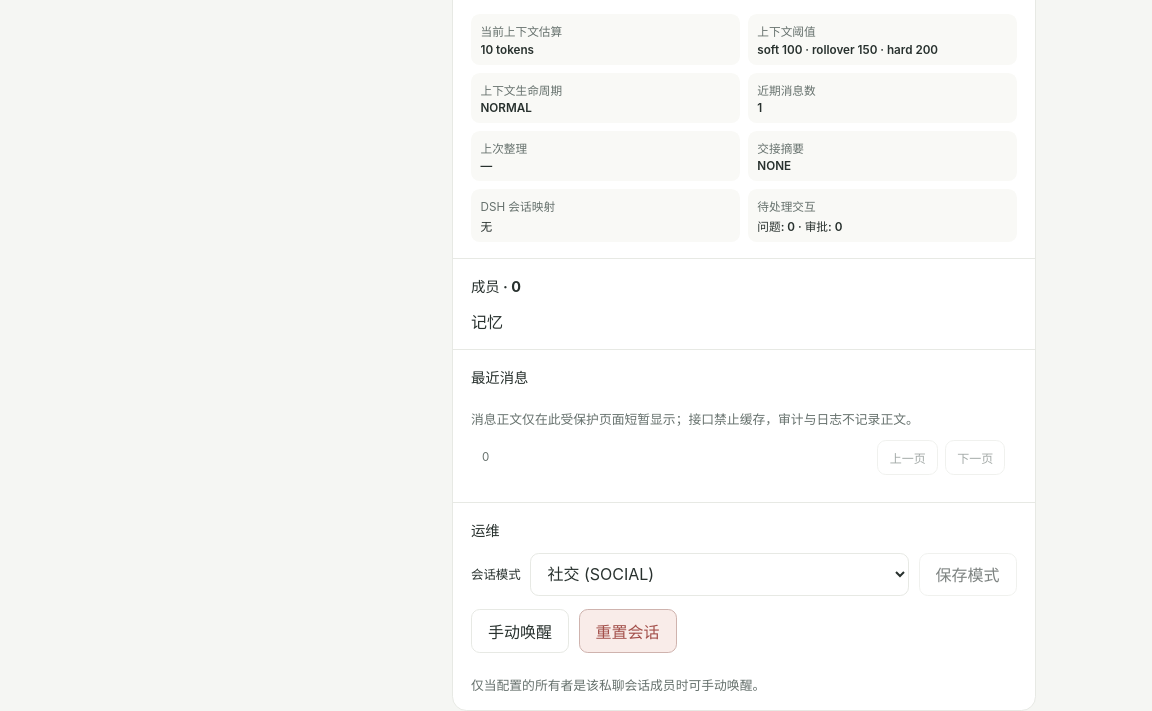
Scenario: conversation operations console › shows UNKNOWN no-resend warning and confirms reset with long-term preservation copy
(page scrolled)
Click the button "重置会话".
click(628, 631)  # box [578, 609, 676, 653]
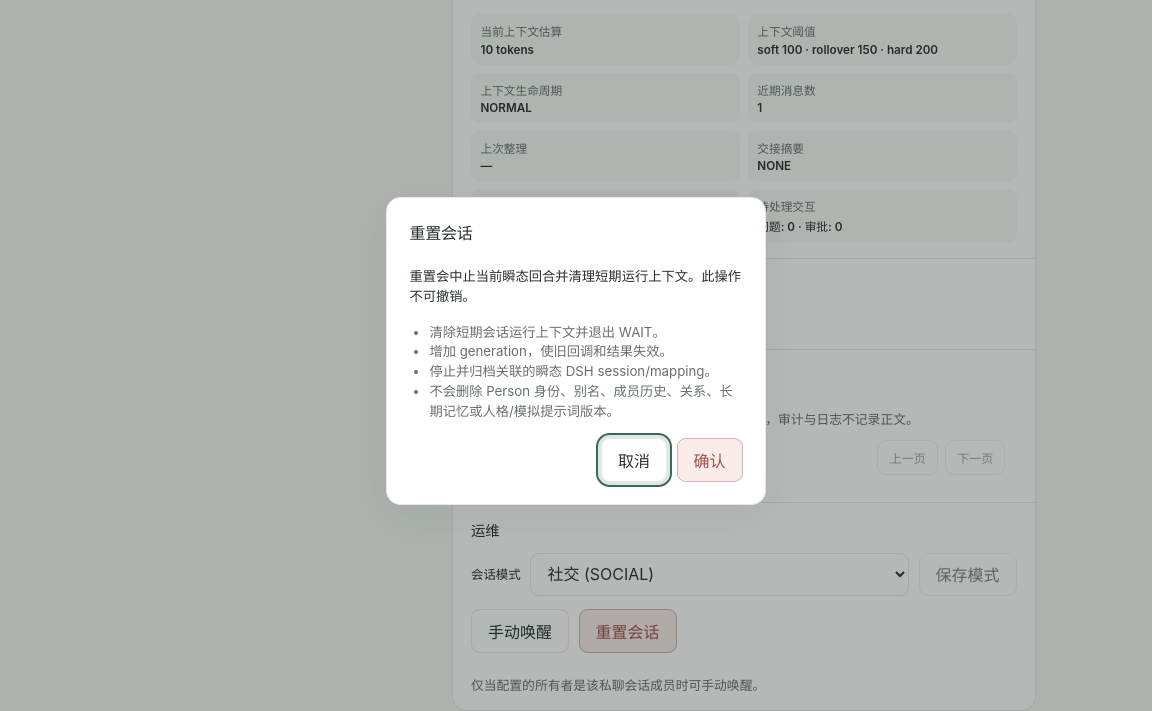
Expected: the dialog shows "不会删除 Person 身份、别名、成员历史、关系、长期记忆或人格/模拟提示词版本。", [429, 383, 733, 419]
